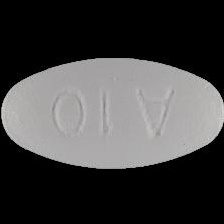58118-2578: (0, 0, 224, 224)
